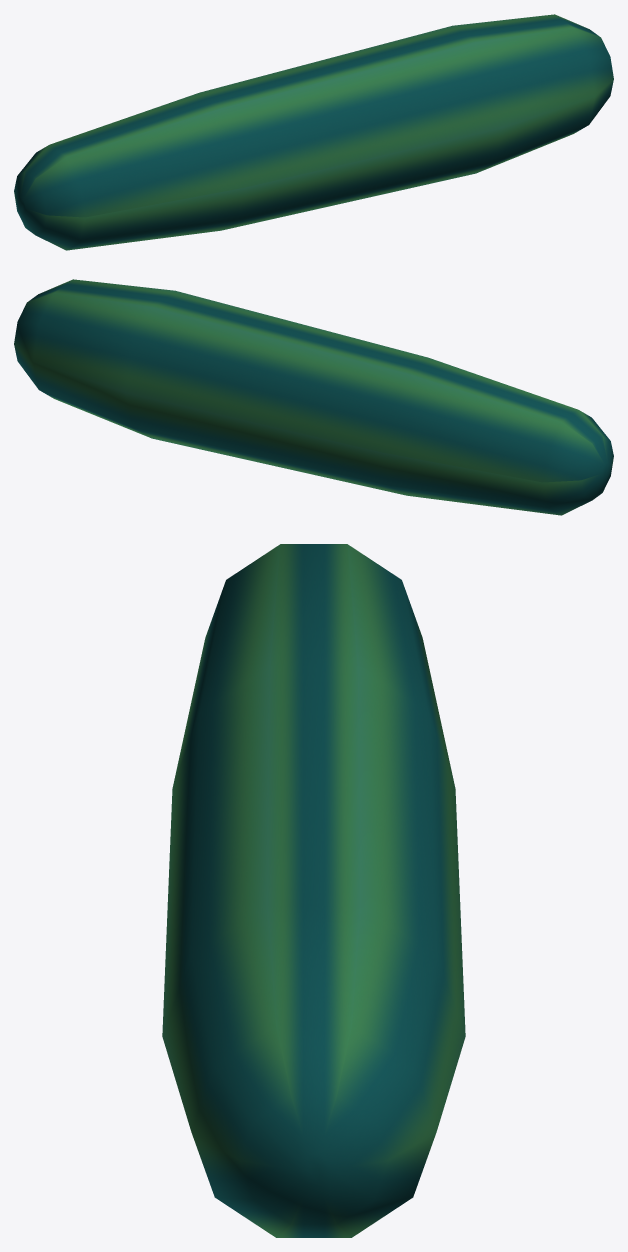
File: pepino.fbx
The picture shows the model from 3 angles, top to bottom: view 1: azimuth 30°, elevation 25°; view 2: azimuth 150°, elevation 25°; view 3: azimuth 270°, elevation 25°; orthographic projection. The views are drawn at different scales.
Parts seen in each view (by area): view 1: Cylinder; view 2: Cylinder; view 3: Cylinder.
Boxes of the visible parts, bbox=[...] form: Cylinder: bbox=[14, 14, 613, 250]; Cylinder: bbox=[14, 279, 613, 515]; Cylinder: bbox=[162, 544, 465, 1237].
Size of the model in its own units: 130 by 27.94 by 29.37.
1 material, 1 textured.
